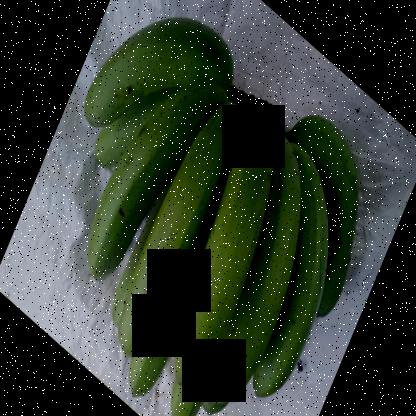freshunripe: (169, 94, 282, 398), (89, 10, 259, 129), (310, 100, 362, 321)
